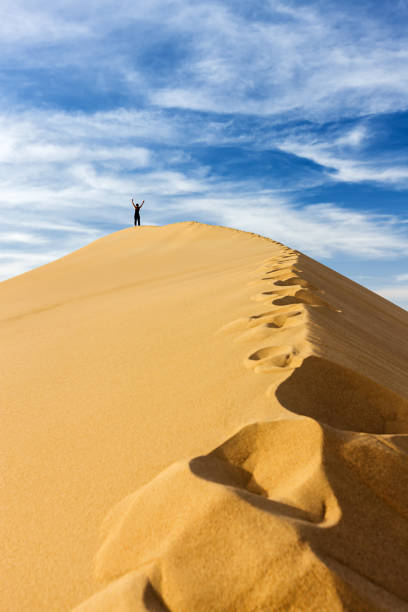human_footprint: (210, 410, 332, 522), (288, 357, 399, 440), (272, 289, 340, 311), (245, 345, 299, 372)
